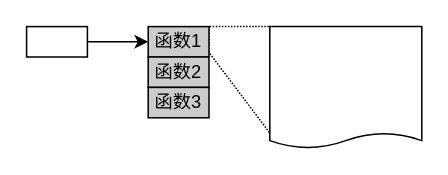
Image size: 448x175. Some labels were removed from this diagram. Here are the shapes that lost their labels. From the top down, the centre of each, then its label:
At pixel 56 41: "指针".
At pixel 345 86: "函数1 max(int x, int y) { ... }".
